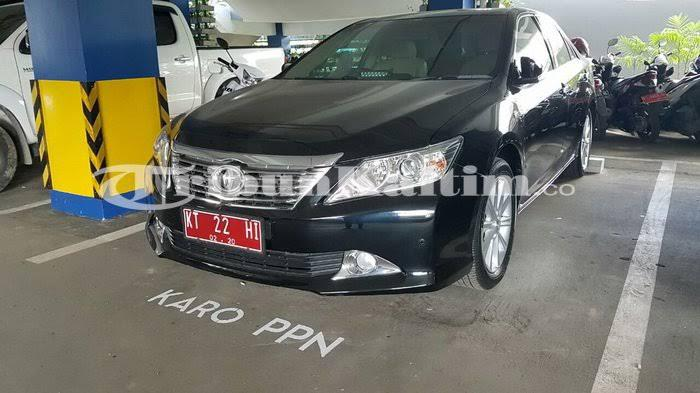plate: (182, 207, 263, 252)
